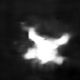plane: (19, 22, 71, 67)
